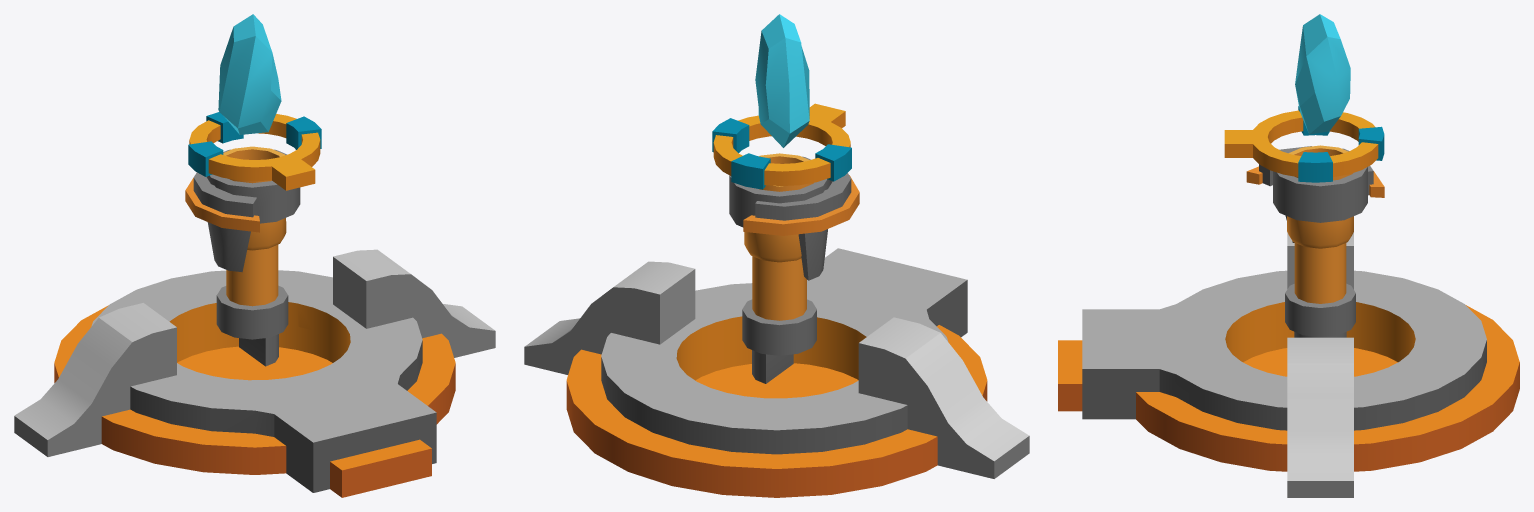
The model's file is Tp Tower Lv2.fbx.
The picture shows the model from 3 angles, left to right: view 1: azimuth 30°, elevation 25°; view 2: azimuth 150°, elevation 25°; view 3: azimuth 270°, elevation 25°; orthographic projection. The views are drawn at different scales.
Parts seen in each view (by area): view 1: Ice Tower Lv2, Boru Lv2, Crystal Lv2; view 2: Ice Tower Lv2, Boru Lv2, Crystal Lv2; view 3: Ice Tower Lv2, Boru Lv2, Crystal Lv2.
Boxes of the visible parts, box(x1,y1,x2,y2) form: Ice Tower Lv2: box(14, 112, 495, 497); Boru Lv2: box(185, 146, 300, 366); Crystal Lv2: box(218, 14, 281, 134); Ice Tower Lv2: box(524, 103, 1029, 497); Boru Lv2: box(729, 153, 859, 383); Crystal Lv2: box(755, 14, 809, 147); Ice Tower Lv2: box(1058, 106, 1519, 497); Boru Lv2: box(1246, 145, 1384, 337); Crystal Lv2: box(1295, 14, 1350, 134).
Size of the model in its own units: 433 by 348 by 389.
